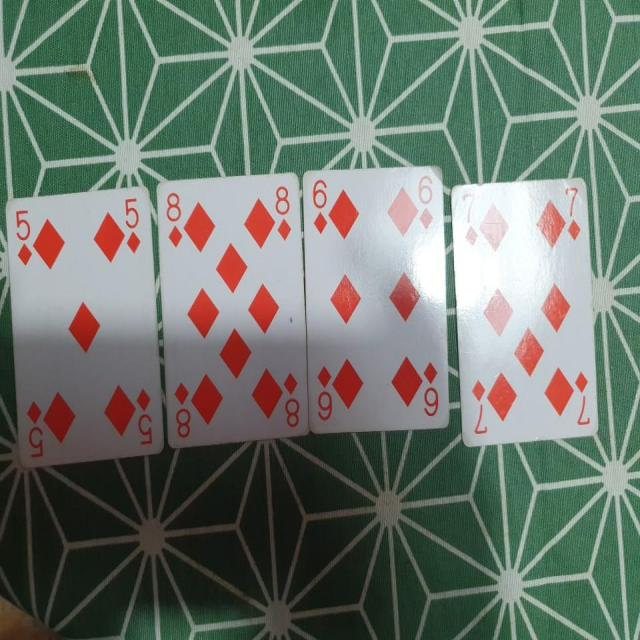5 Diamonds: (2, 180, 166, 467)
6 Diamonds: (301, 162, 452, 429)
7 Diamonds: (450, 173, 599, 447)
8 Diamonds: (157, 171, 310, 448)
